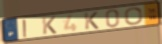0: (105, 9, 121, 29)
4: (63, 13, 80, 33)
I: (22, 18, 29, 38)
K: (41, 15, 58, 35), (83, 11, 100, 30)
O: (124, 6, 144, 26)
